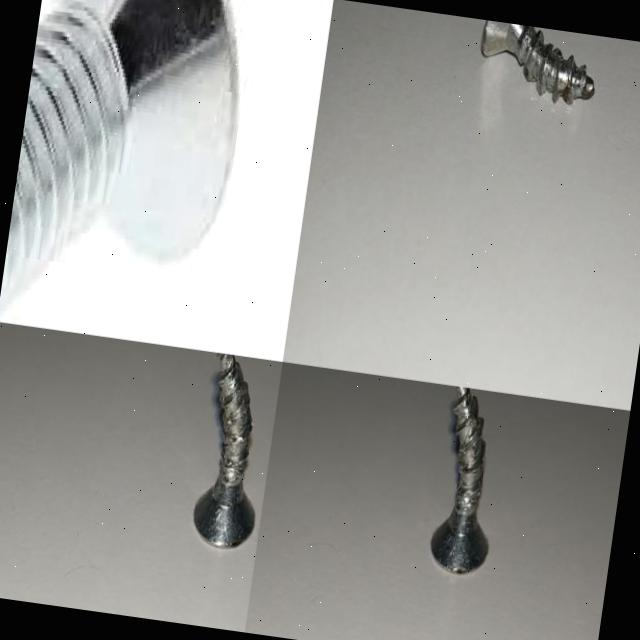Screw: (0, 0, 242, 322), (194, 353, 256, 547), (431, 386, 489, 572), (481, 20, 595, 104)
